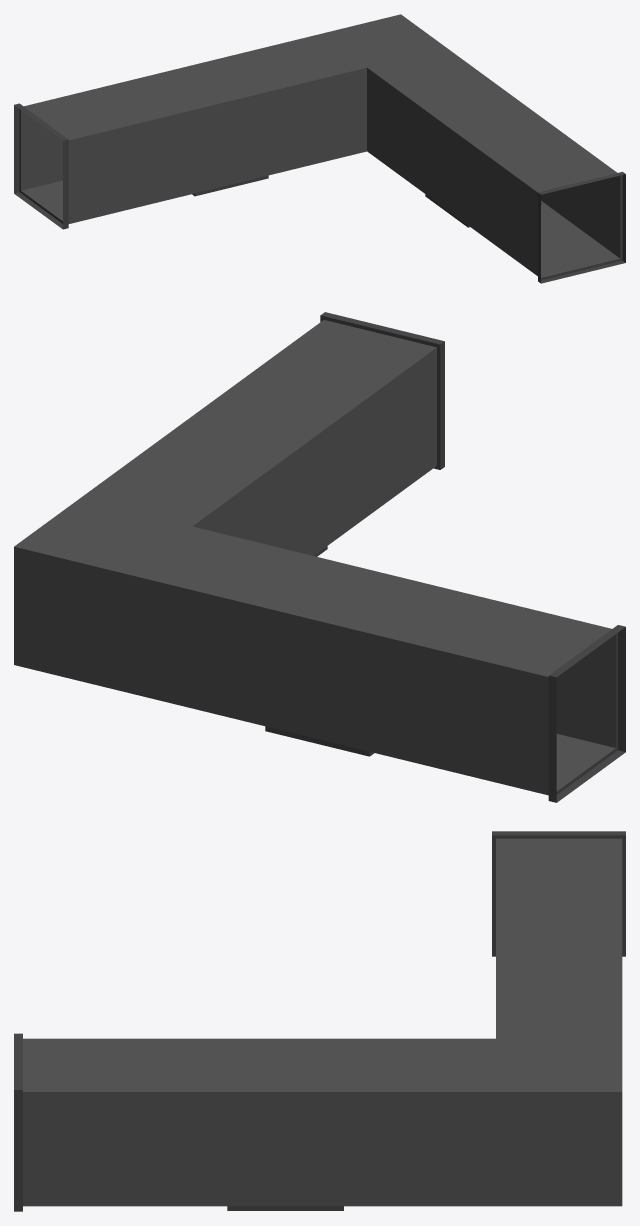
The model's file is WallDecor_02.fbx.
3 renders of one model, top to bottom at view 1: azimuth 30°, elevation 25°; view 2: azimuth 150°, elevation 25°; view 3: azimuth 270°, elevation 25°, orthographic. The views are drawn at different scales.
Parts seen in each view (by area): view 1: WallDecor_02; view 2: WallDecor_02; view 3: WallDecor_02.
Part boxes in pixels (x1,y1,x2,y2): WallDecor_02: (14, 14, 625, 283); WallDecor_02: (14, 312, 625, 802); WallDecor_02: (14, 831, 625, 1211).
Bounding box in the file's own units: 281 × 63.09 × 281.
